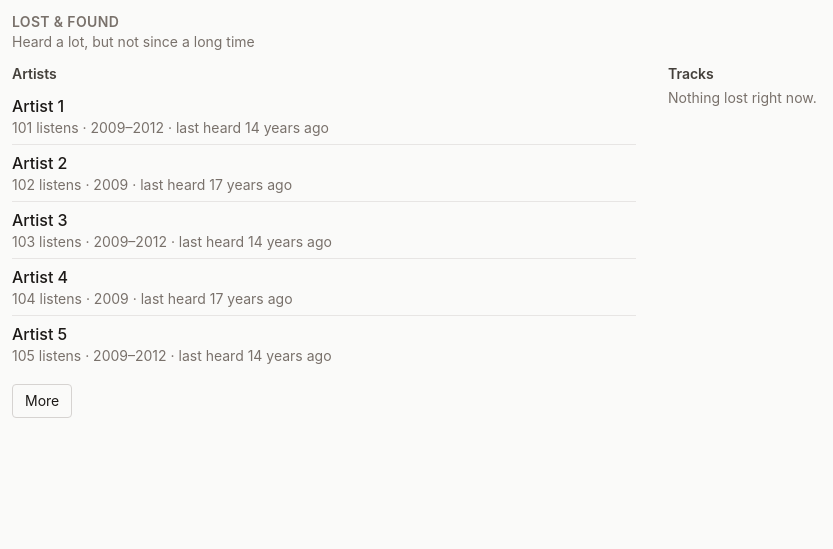
Test: LostAndFound › shows five at first
Expected: the text "Heard a lot, but not since a long time" is shown, [12,33,255,50]
Expected: the text "Nothing lost right now." is shown, [668,89,817,106]
Click the button "More": (42, 401) [12,384,72,418]
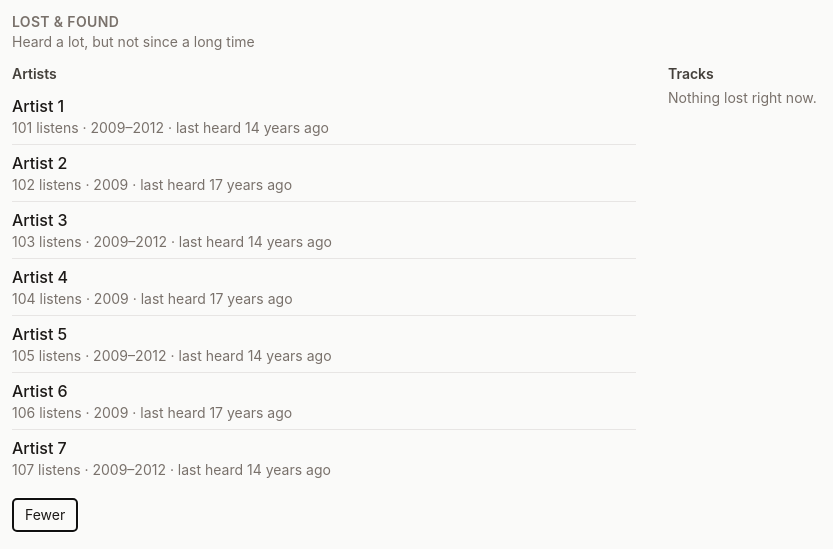
Expected: the link "Artist 7" is shown, [12,438,67,458]
Click the button "Fewer": (45, 515) [12,498,78,532]
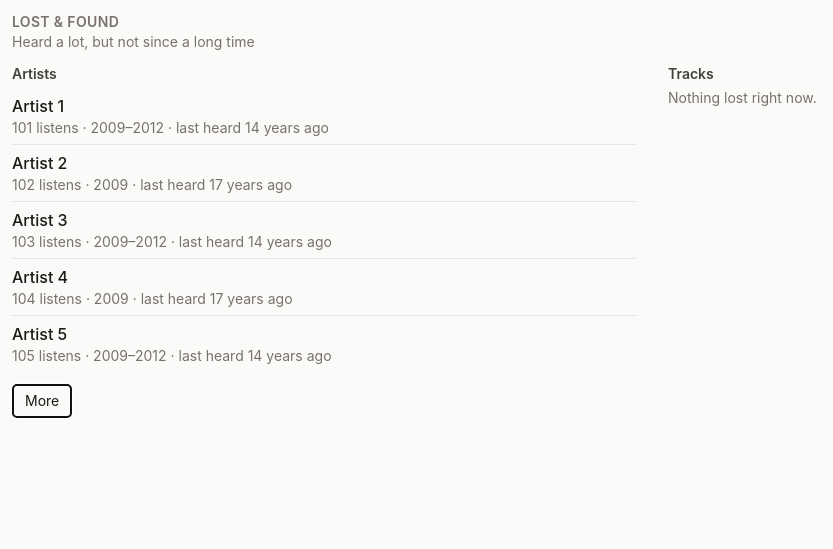
Expected: the link "Artist 7" is gone
